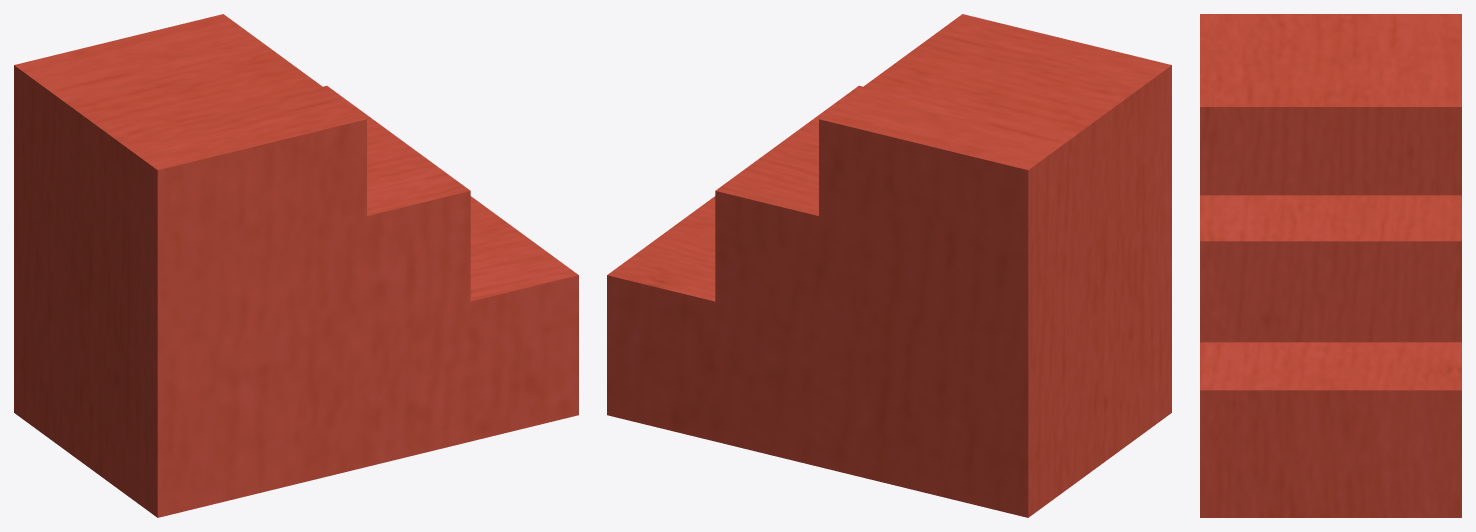
The model's file is JeuEnBois5.fbx.
3 renders of one model, left to right at view 1: azimuth 30°, elevation 25°; view 2: azimuth 150°, elevation 25°; view 3: azimuth 270°, elevation 25°, orthographic. The views are drawn at different scales.
Parts seen in each view (by area): view 1: Box032; view 2: Box032; view 3: Box032.
Boxes of the visible parts, x1=… form: Box032: x1=14, y1=14, x2=578, y2=517; Box032: x1=607, y1=14, x2=1171, y2=517; Box032: x1=1200, y1=14, x2=1461, y2=517.
Size of the model in its own units: 48.02 by 28.38 by 37.88.
Materials: 1 (1 with a texture image).
